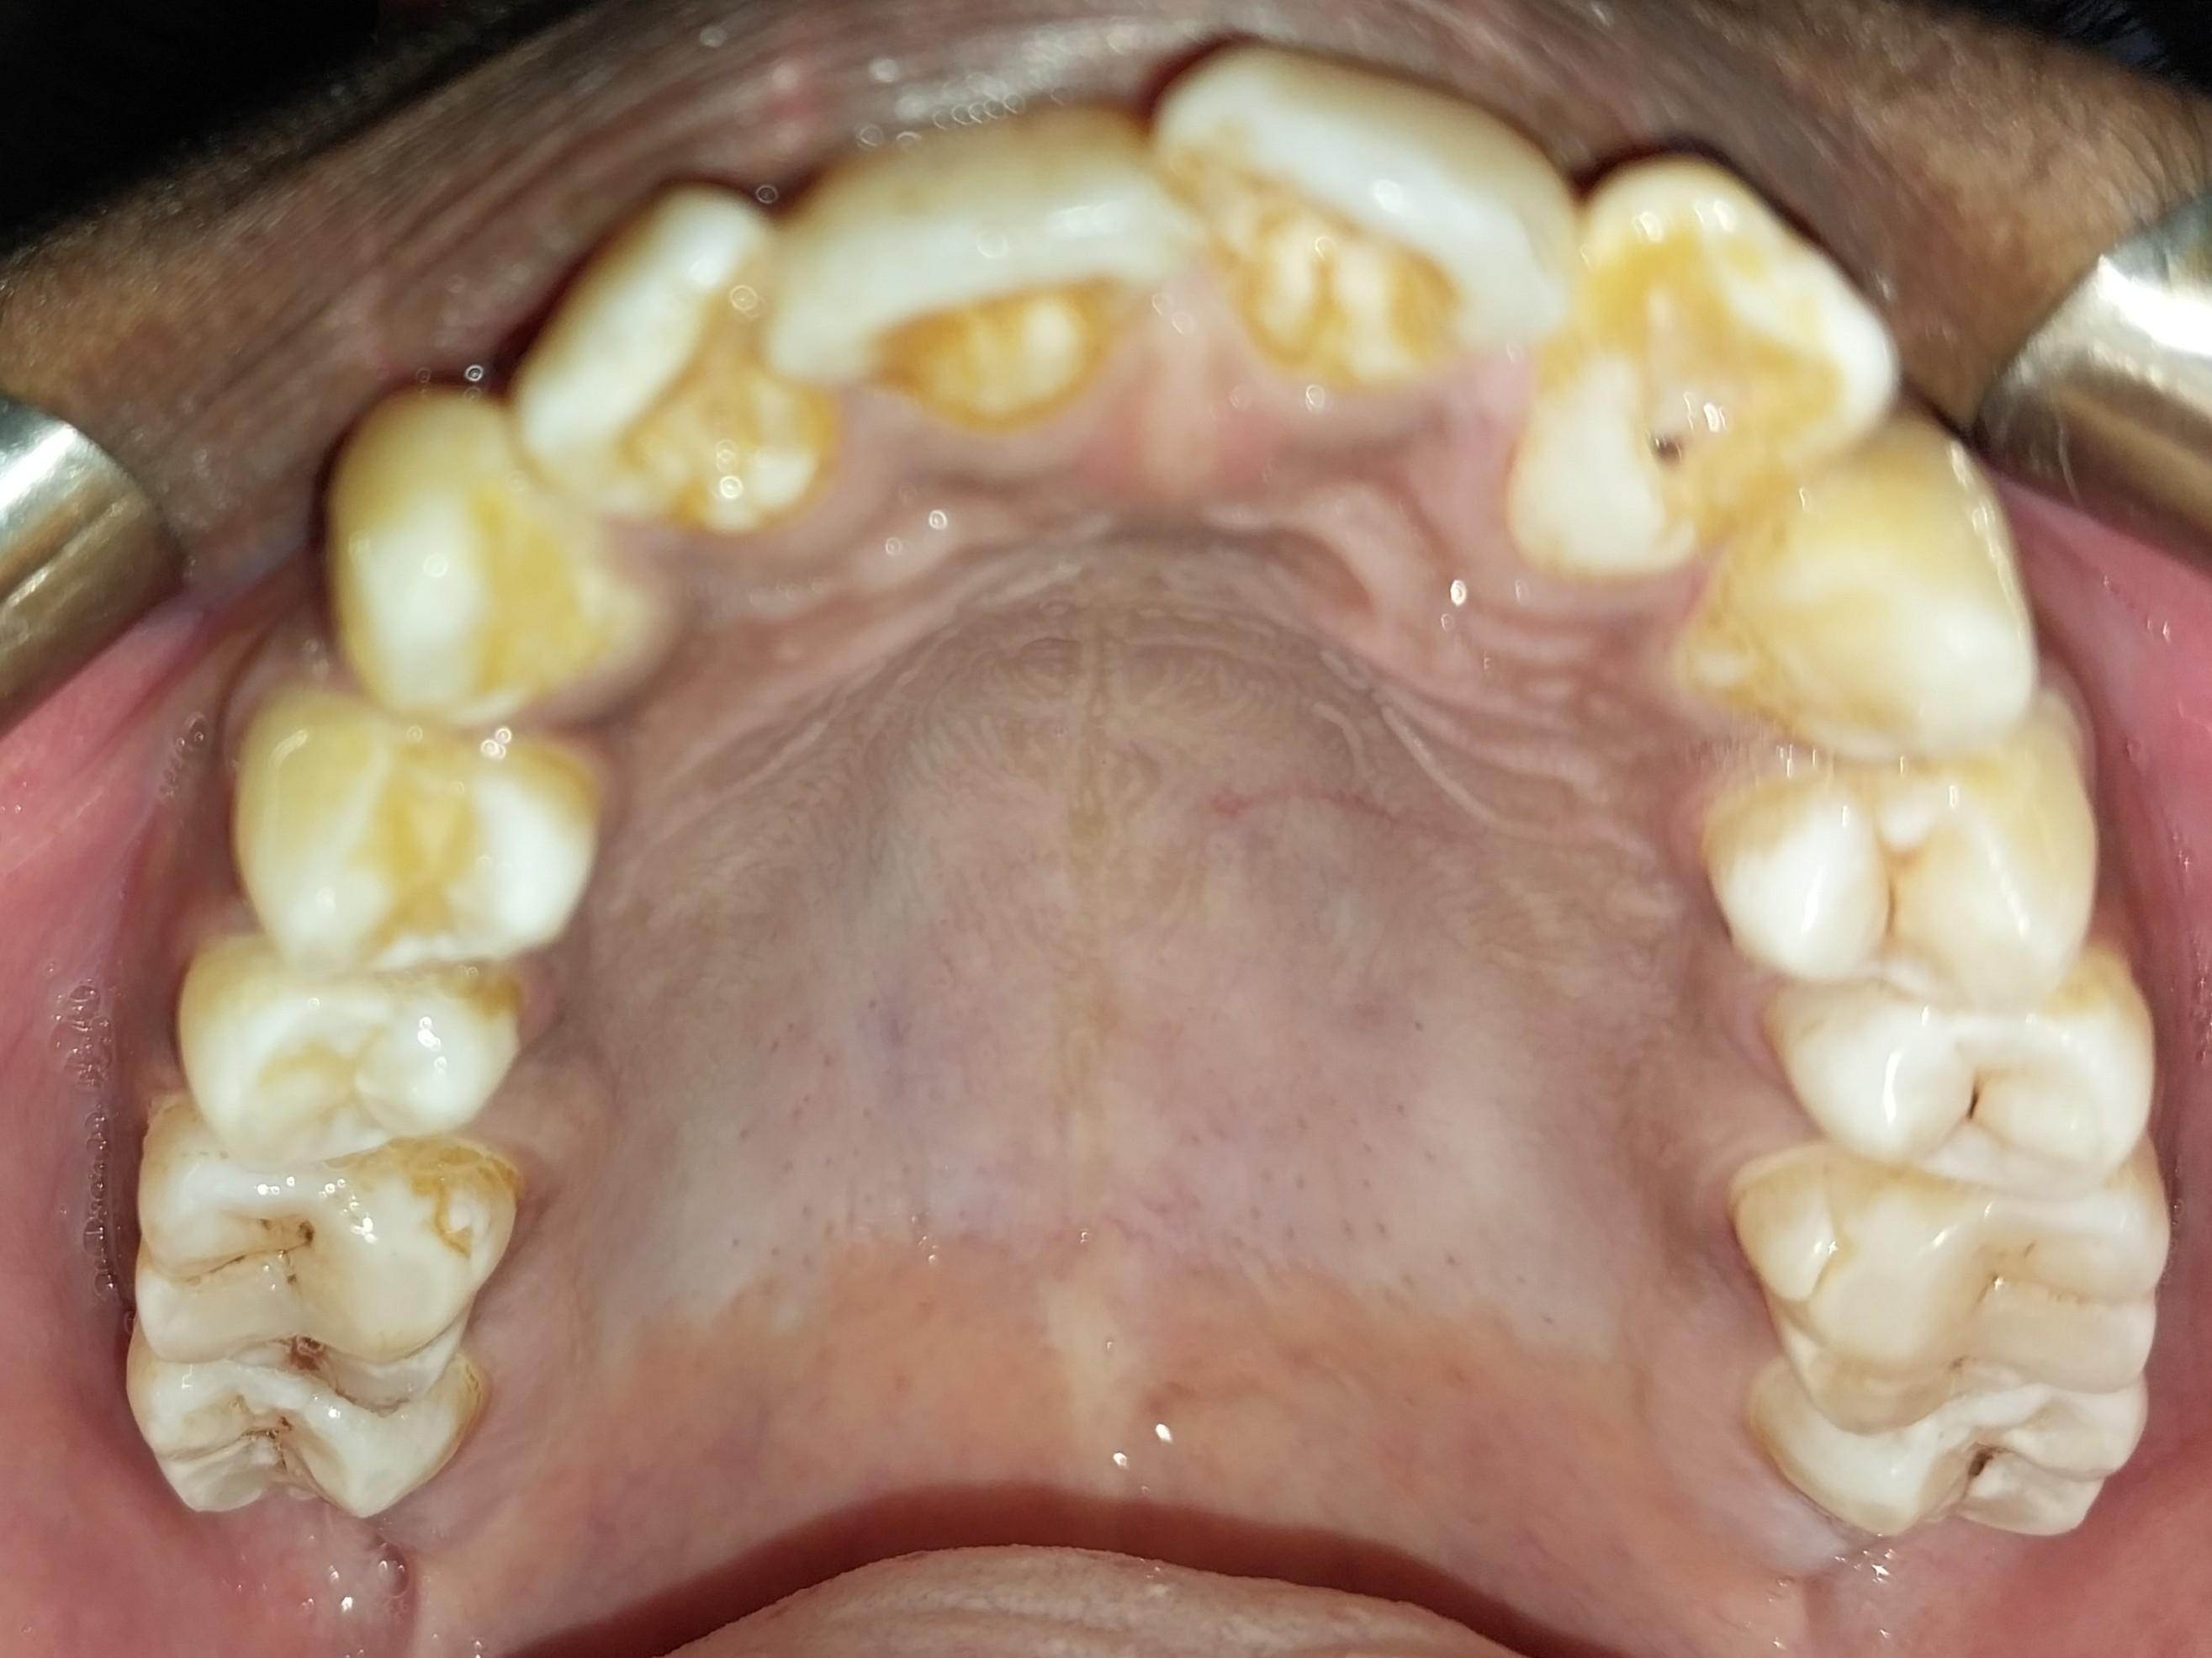D: (1518, 150, 1893, 607), (139, 1094, 509, 1416), (1769, 940, 2159, 1195), (1765, 1360, 2149, 1536)
